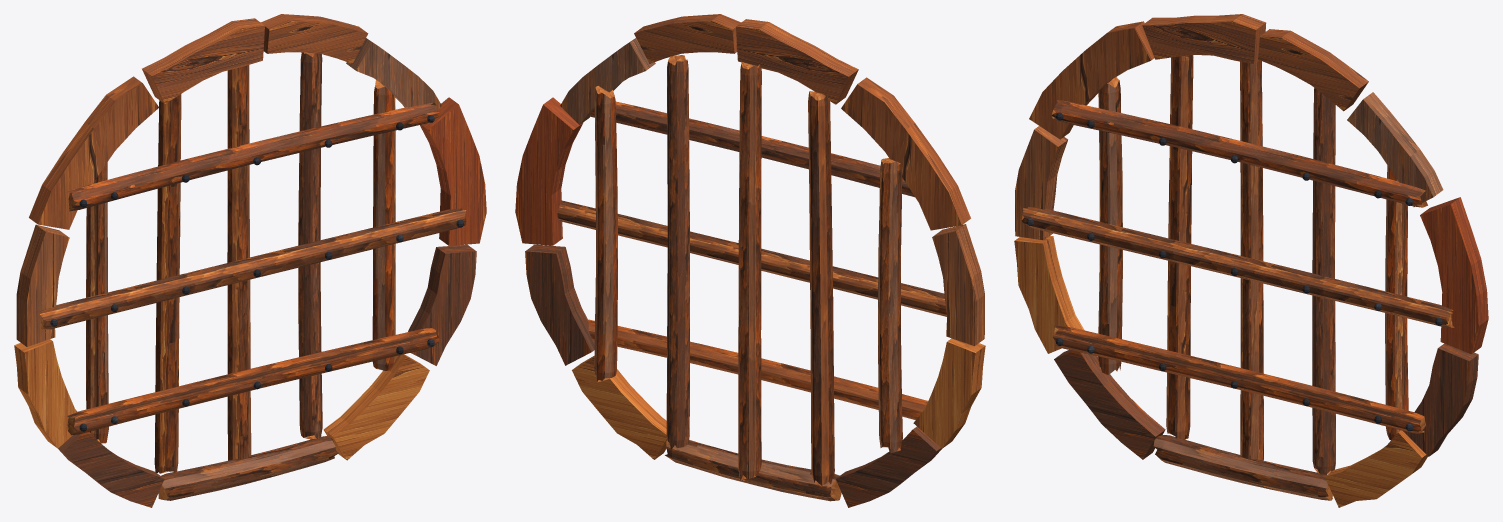
File: gate_round.glb
The picture shows the model from 3 angles, left to right: view 1: azimuth 30°, elevation 25°; view 2: azimuth 150°, elevation 25°; view 3: azimuth 330°, elevation 25°; orthographic projection.
Visible parts, largest first — view 1: model; view 2: model; view 3: model.
Boxes of the visible parts, left/top/right/bottom form: model: left=14, top=14, right=486, bottom=507; model: left=515, top=14, right=985, bottom=507; model: left=1014, top=14, right=1488, bottom=507.
Bounding box in the file's own units: 1.55 × 1.48 × 0.154.
Materials: 22 (22 with a texture image).
